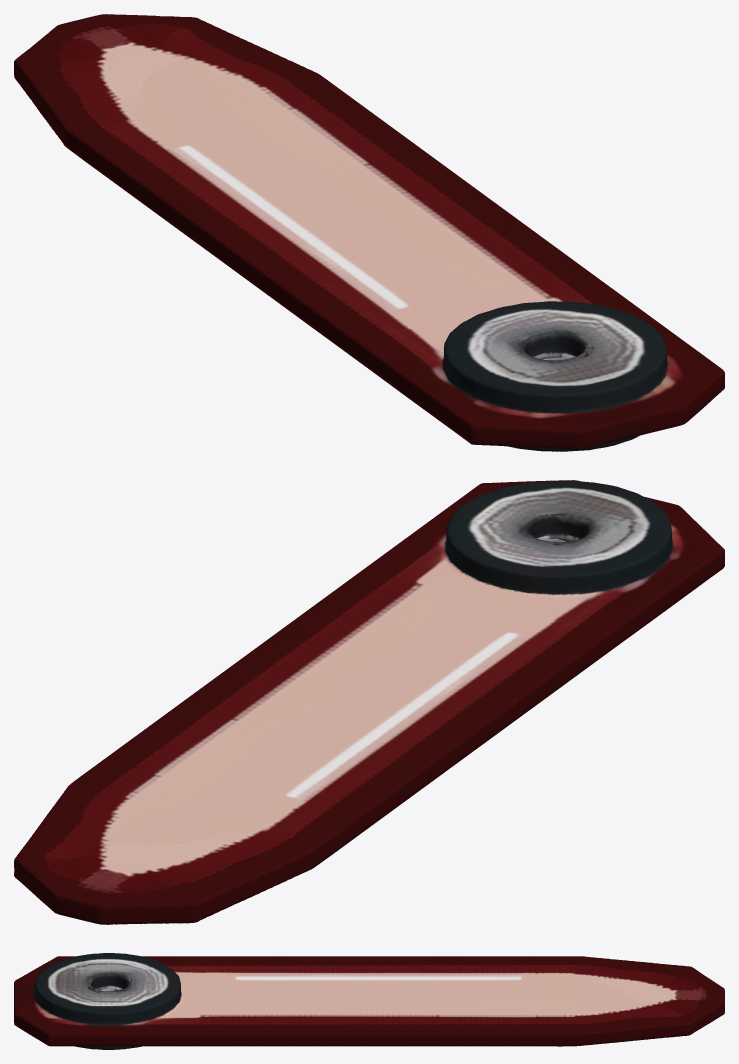
Rendered from flipper.glb.
3 views of the same model, one above another, from view 1: azimuth 30°, elevation 25°; view 2: azimuth 150°, elevation 25°; view 3: azimuth 270°, elevation 25° (orthographic). The views are drawn at different scales.
Bounding box in the file's own units: 0.2622 × 0.0588 × 1.
Materials: 1 (1 with a texture image).
